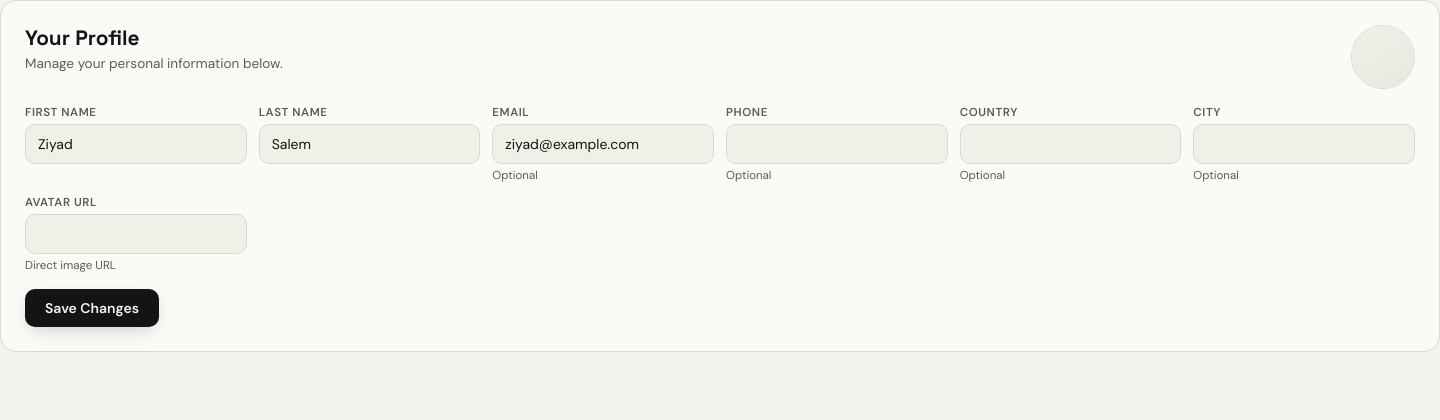
Test case: ProfileDetailsCard › prefills from the resolved identity and saves with the browser timezone
Expected: the field labelled "First name" holds "Ziyad", [25, 124, 247, 164]
Click the button "Save Changes" at (92, 308), box [25, 289, 159, 327]
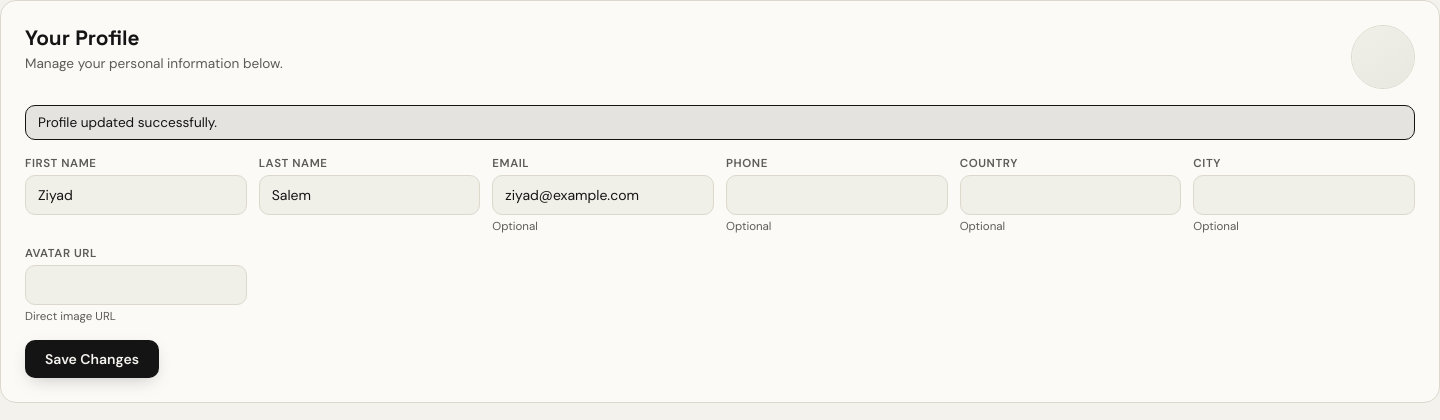
Expected: the text "Profile updated successfully." is shown, [25, 105, 1415, 140]
